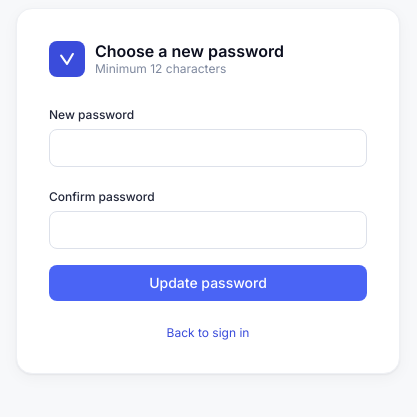
Test: ResetPasswordPage › rejects passwords shorter than 12 characters with an inline error
Type "short" into the password field labelled "New password" at [208, 148], box [49,129,367,167]
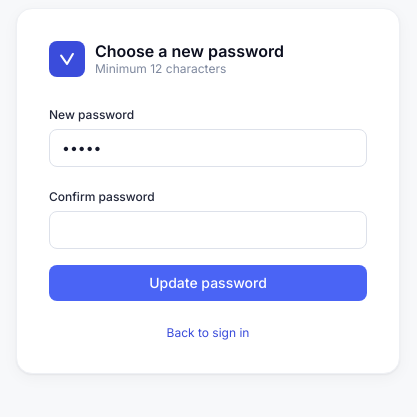
Type "short" into the password field labelled "Confirm password" at [208, 230], box [49,211,367,249]
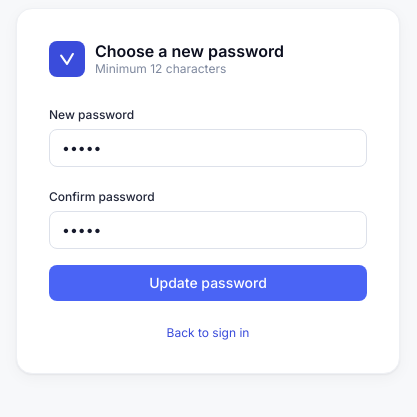
Click the button "Update password" at [208, 283], box [49,265,367,301]
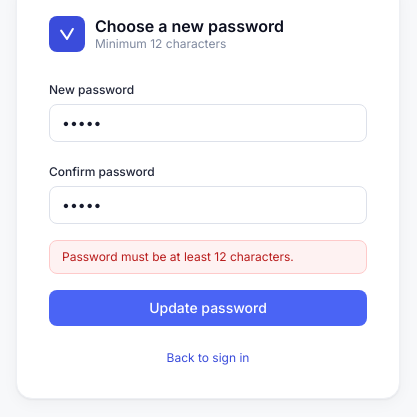
Now the message shows "at least 12", box [62,249,294,264]
